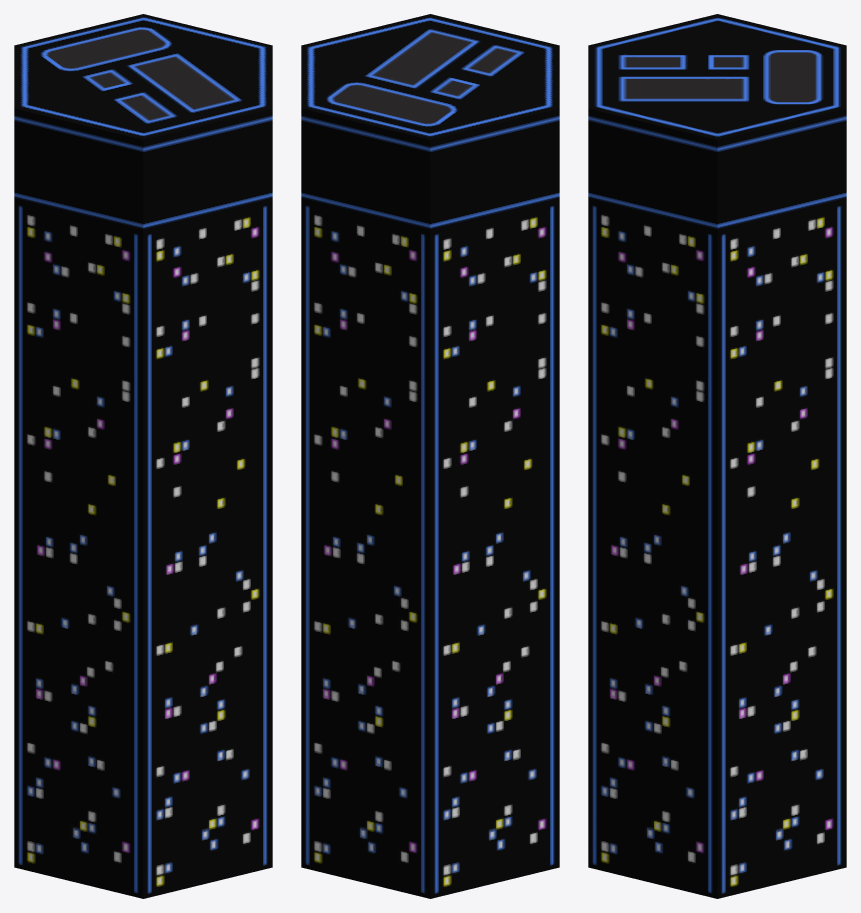
The model's file is bldg_002.fbx.
3 renders of one model, left to right at view 1: azimuth 30°, elevation 25°; view 2: azimuth 150°, elevation 25°; view 3: azimuth 270°, elevation 25°, orthographic.
Parts seen in each view (by area): view 1: bldg_002; view 2: bldg_002; view 3: bldg_002.
Part boxes in pixels (<box>): bldg_002: <box>14,14,272,898</box>; bldg_002: <box>301,14,559,898</box>; bldg_002: <box>588,14,846,898</box>.
Size of the model in its own units: 250 by 703 by 217.
1 material, 1 textured.
